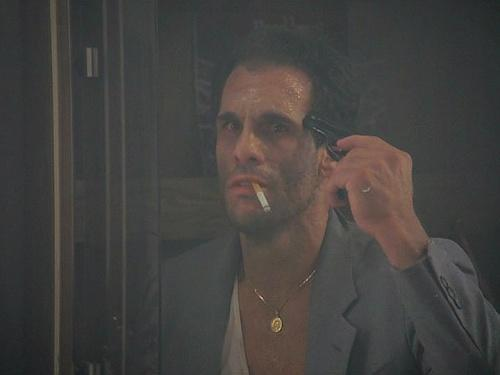Gun: (303, 107, 363, 222)
